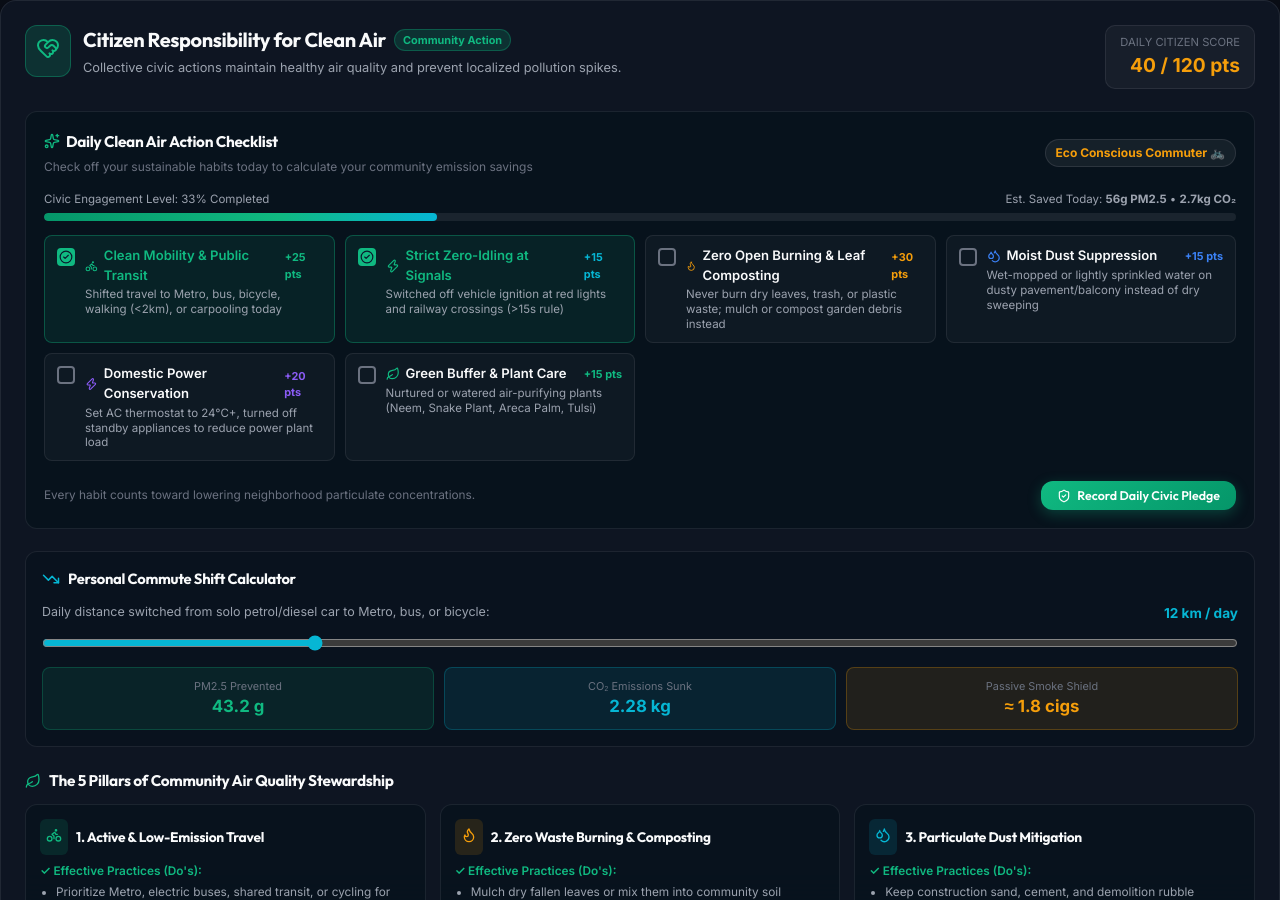
Test: CitizenResponsibilityCard Component › records civic pledge when clicking the button
Step 1. Click the button "Record Daily Civic Pledge" → [1139, 496], box [1041,482,1236,510]
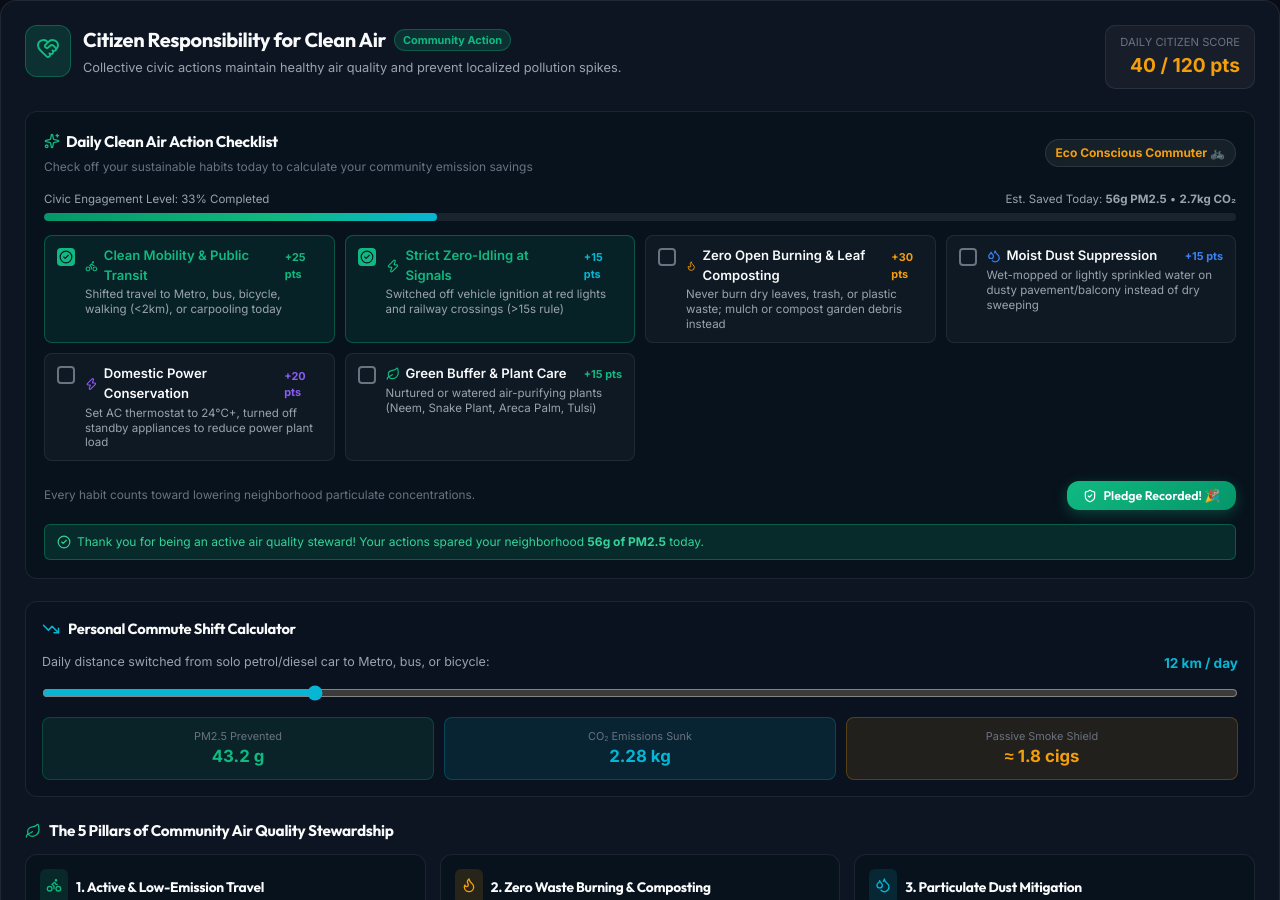
Expected: the text "Pledge Recorded! 🎉" is shown, [1103,488,1220,504]
Expected: the text "Thank you for being an active air quality steward!" is shown, [77,534,587,550]
